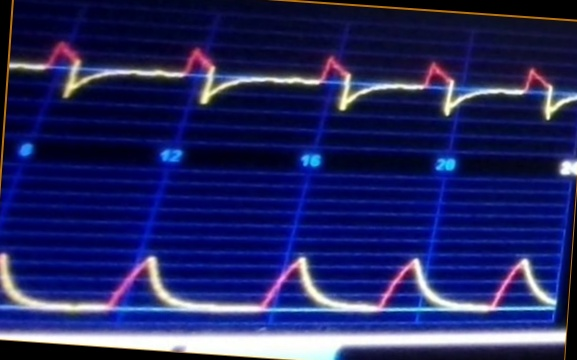Accumulation Flow: (19, 25, 569, 135)
Volume: (1, 215, 555, 323)
